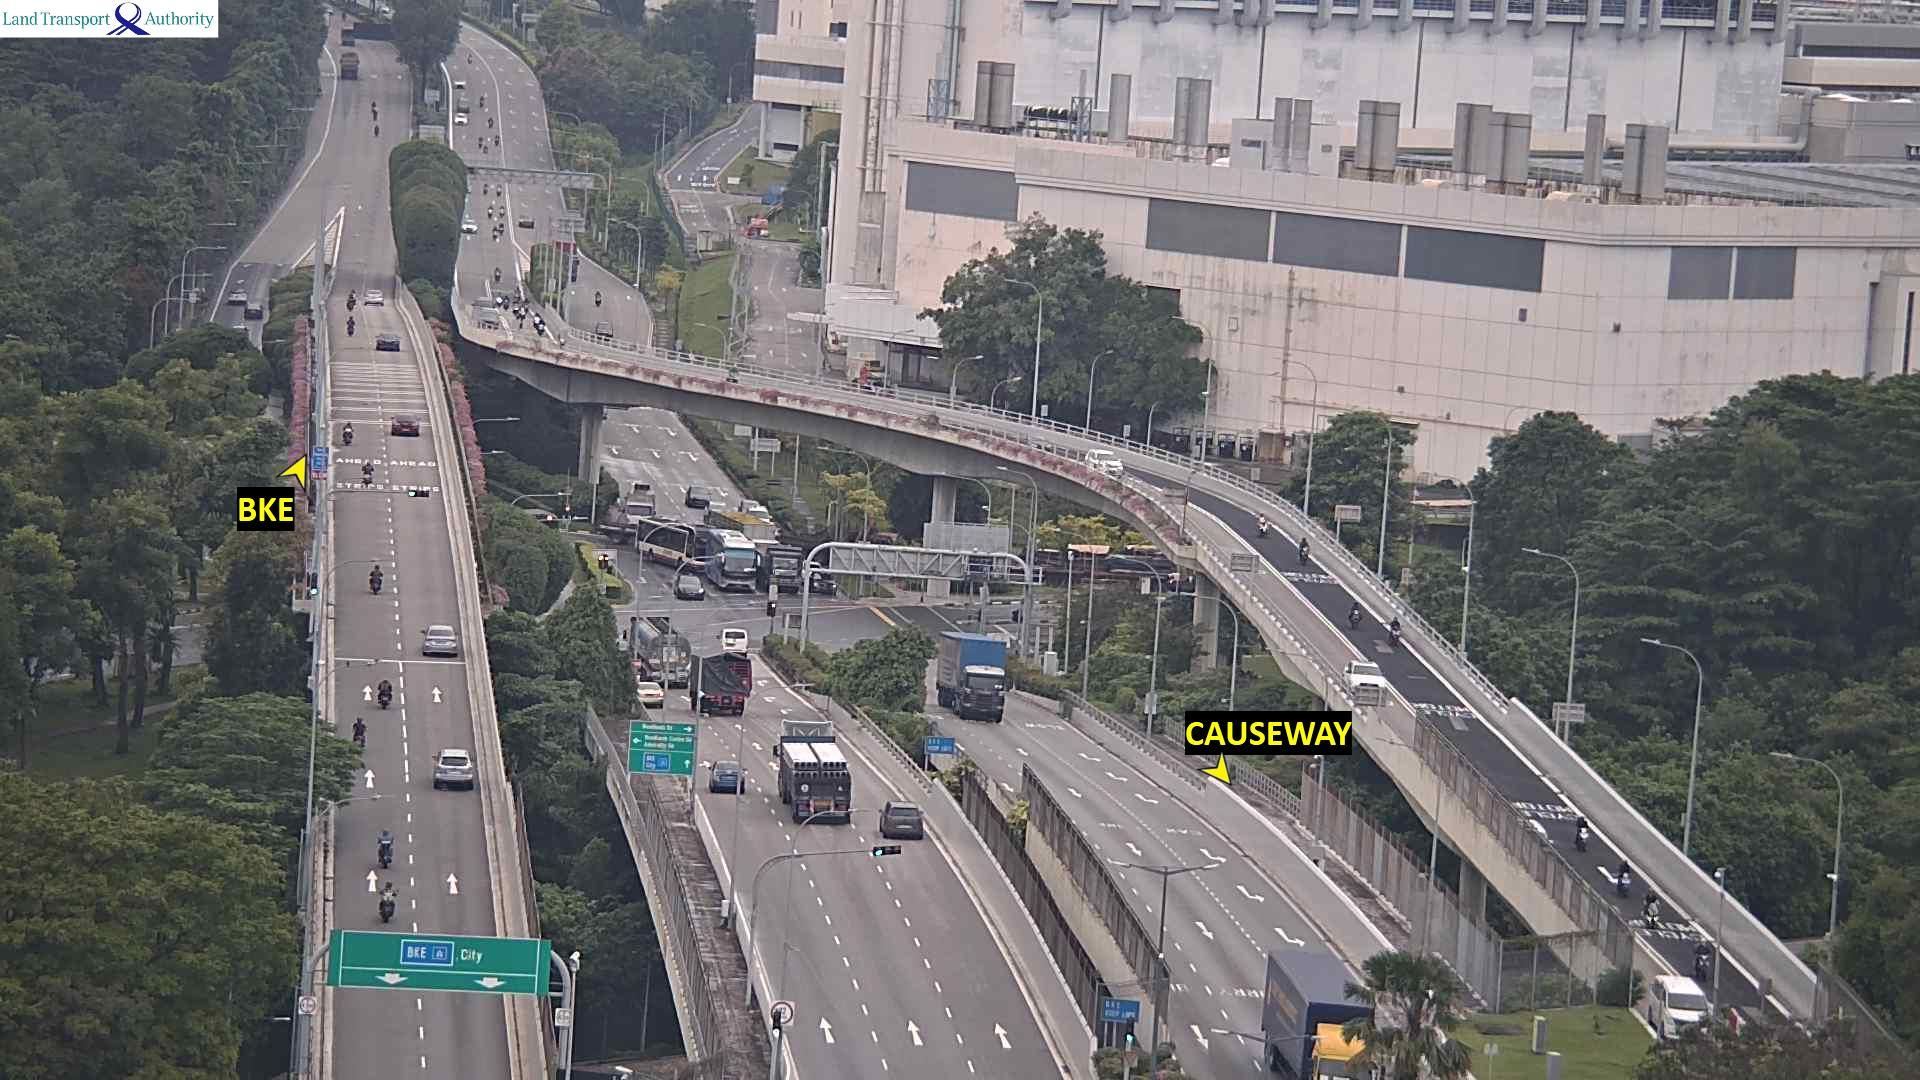vehicle-causeway-johor: (1269, 945, 1373, 1079), (935, 630, 1013, 717), (1656, 980, 1702, 1039), (1345, 662, 1386, 703), (1084, 447, 1122, 475), (476, 295, 497, 327), (1573, 811, 1588, 849), (1646, 890, 1659, 927), (1619, 857, 1630, 897), (1349, 604, 1364, 630), (1697, 940, 1709, 972), (1391, 615, 1402, 642), (1298, 537, 1308, 564), (727, 373, 741, 389), (462, 219, 476, 233), (1259, 512, 1267, 533), (727, 364, 736, 381), (535, 318, 545, 332)
vehicle-causeway-singapore: (775, 742, 860, 803), (877, 804, 923, 841), (418, 630, 463, 658), (431, 766, 481, 790), (699, 695, 746, 716), (711, 767, 749, 793), (429, 752, 477, 770), (377, 878, 397, 923), (807, 810, 855, 827), (633, 688, 669, 709), (378, 827, 397, 866), (367, 683, 390, 711), (397, 419, 423, 438), (380, 338, 405, 353), (365, 571, 381, 595), (340, 425, 353, 444), (361, 459, 371, 484)
